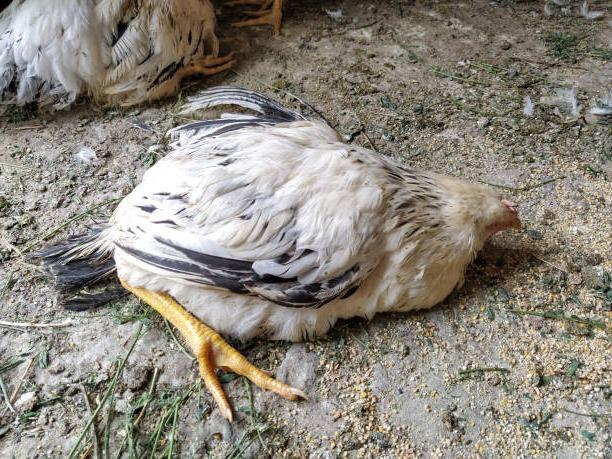AbNormal: (40, 89, 554, 408)
